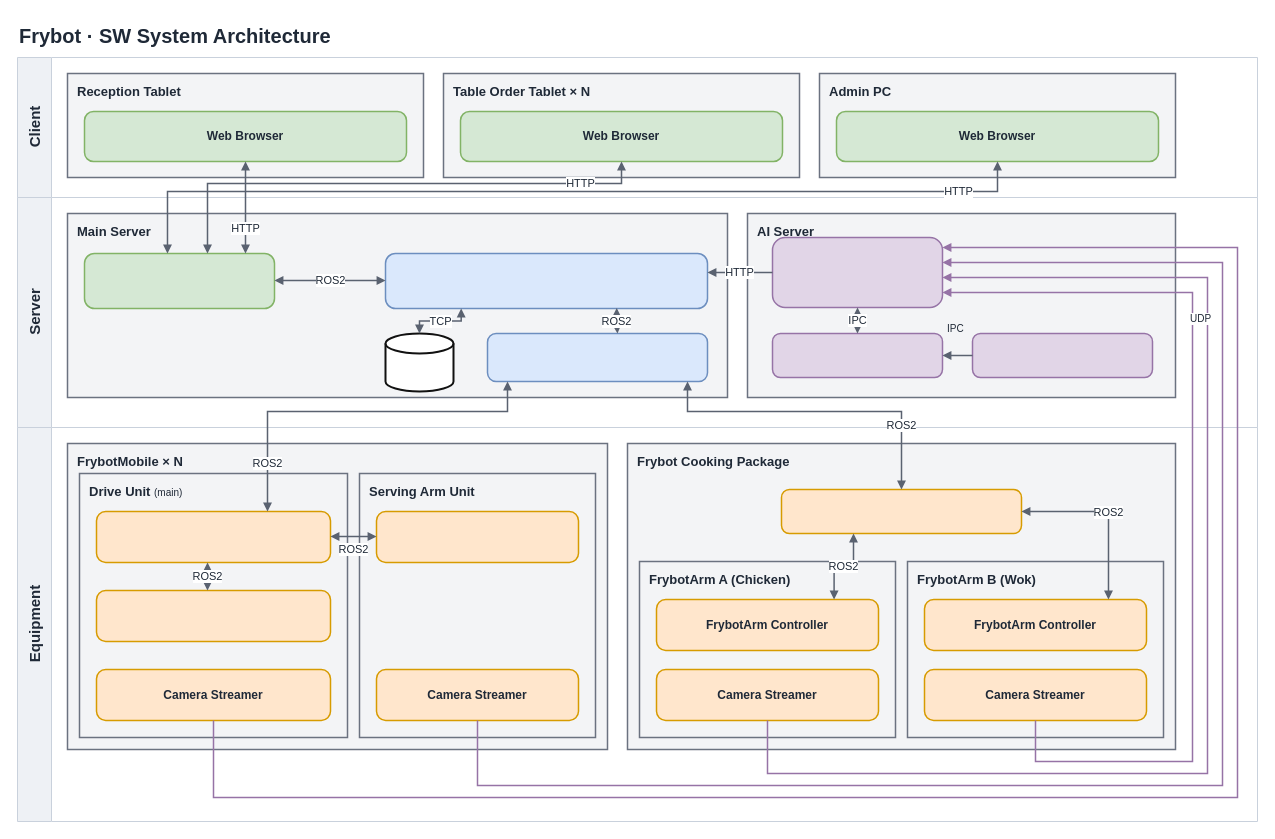
This 1275x839 diagram has some shape labels left out. Each missing label, with the centre of its shape:
AI Interface: the point at 857,272
DB: the point at 419,362
Frybot Central Control: the point at 546,280
Frybot Task Manager: the point at 597,357
FrybotArm Master Controller: the point at 901,511
FrybotMobile Arm Controller: the point at 477,536
FrybotMobile Controller: the point at 213,536
FrybotNavigator: the point at 213,615
Inference Model: the point at 857,355
Model Training: the point at 1062,355
Web Service: the point at 179,280
